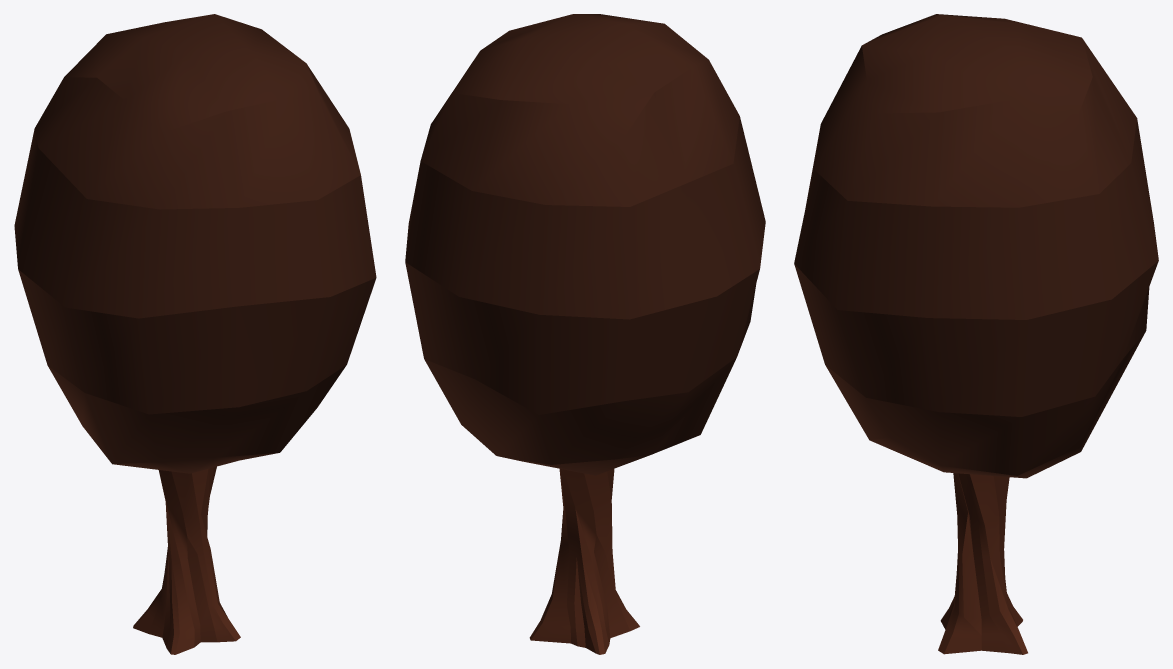
Rendered from Tree_2_Medium_1.fbx.
3 renders of one model, left to right at view 1: azimuth 30°, elevation 25°; view 2: azimuth 150°, elevation 25°; view 3: azimuth 270°, elevation 25°, orthographic. The views are drawn at different scales.
Parts seen in each view (by area): view 1: Tree_2_Medium_1; view 2: Tree_2_Medium_1; view 3: Tree_2_Medium_1.
Part boxes in pixels (<box>): Tree_2_Medium_1: <box>14,14,376,654</box>; Tree_2_Medium_1: <box>405,14,765,654</box>; Tree_2_Medium_1: <box>794,14,1158,654</box>.
Bounding box in the file's own units: 101 × 189 × 102.
